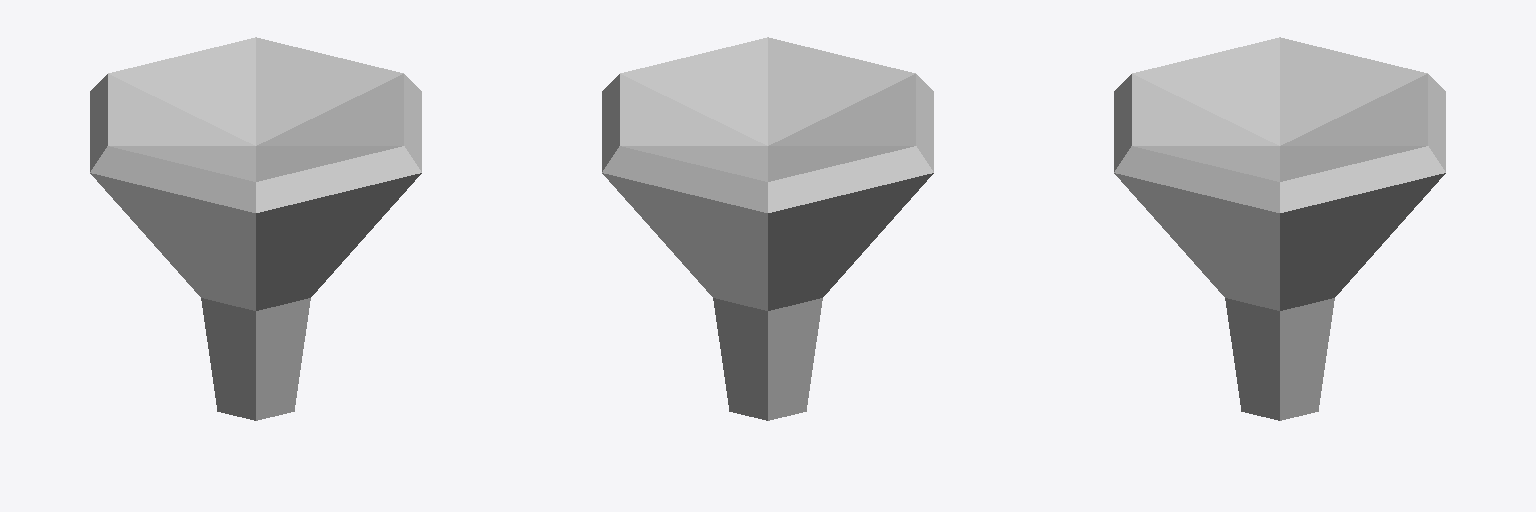
File: Forest_C_Mushroom_02.obj
3 views of the same model, side by side, from view 1: azimuth 30°, elevation 25°; view 2: azimuth 150°, elevation 25°; view 3: azimuth 270°, elevation 25° (orthographic).
Visible parts, largest first — view 1: Forest_C_Mushroom_02; view 2: Forest_C_Mushroom_02; view 3: Forest_C_Mushroom_02.
Part boxes in pixels (left/top/right/bottom): Forest_C_Mushroom_02: left=90, top=37, right=421, bottom=420; Forest_C_Mushroom_02: left=602, top=37, right=933, bottom=420; Forest_C_Mushroom_02: left=1114, top=37, right=1445, bottom=420.
Bounding box in the file's own units: 24.47 × 20.57 × 21.19.